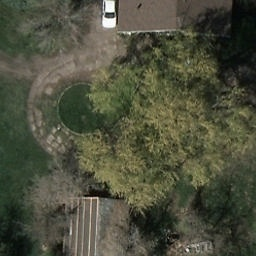car: (102, 0, 118, 29)
